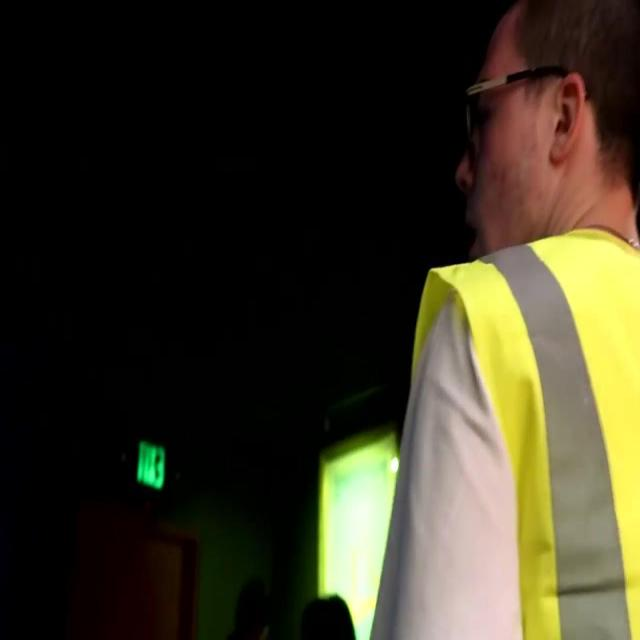jacket: (398, 216, 637, 640)
